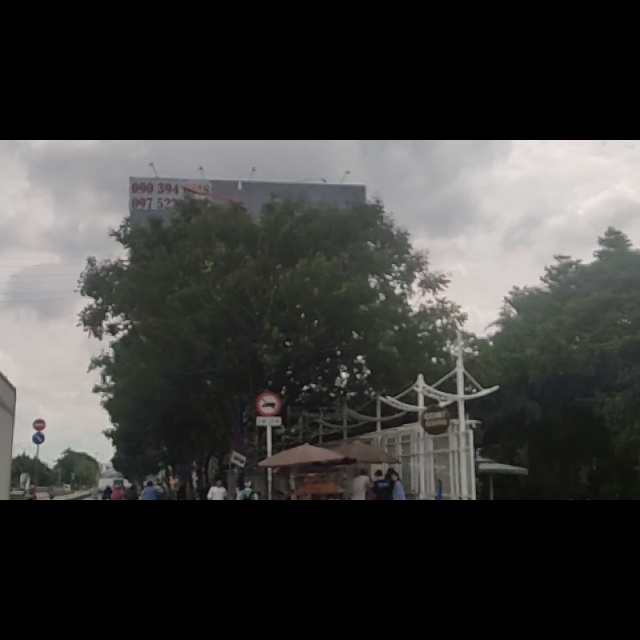bien_hieu_lenh: (257, 448, 281, 510)
